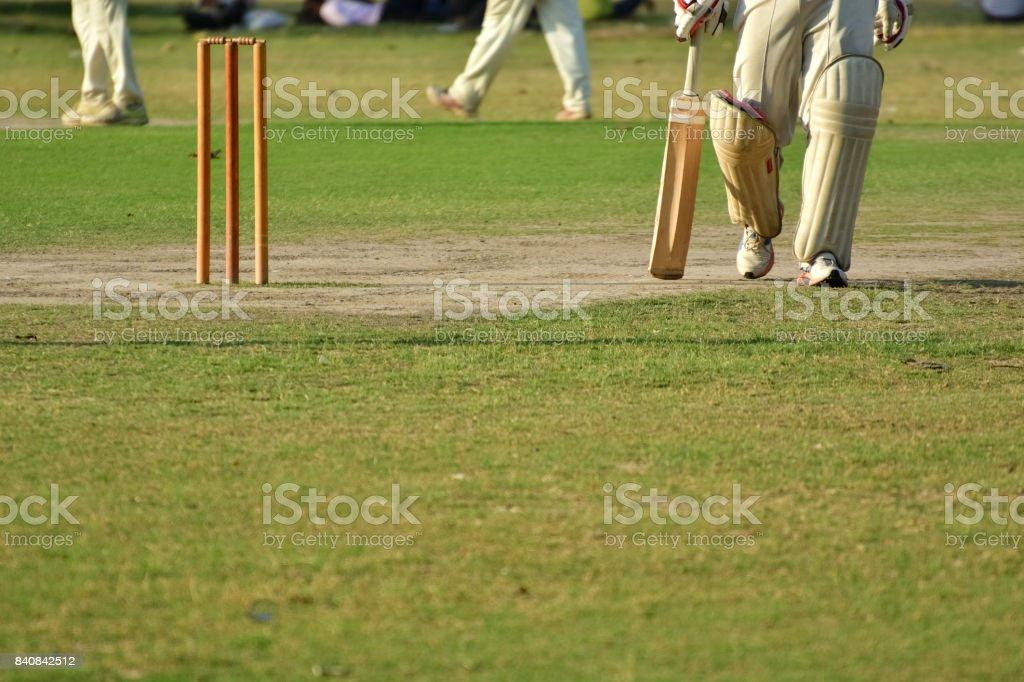batsman: (649, 0, 915, 292)
